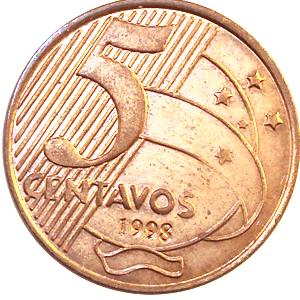5 cent: (1, 0, 299, 294)
